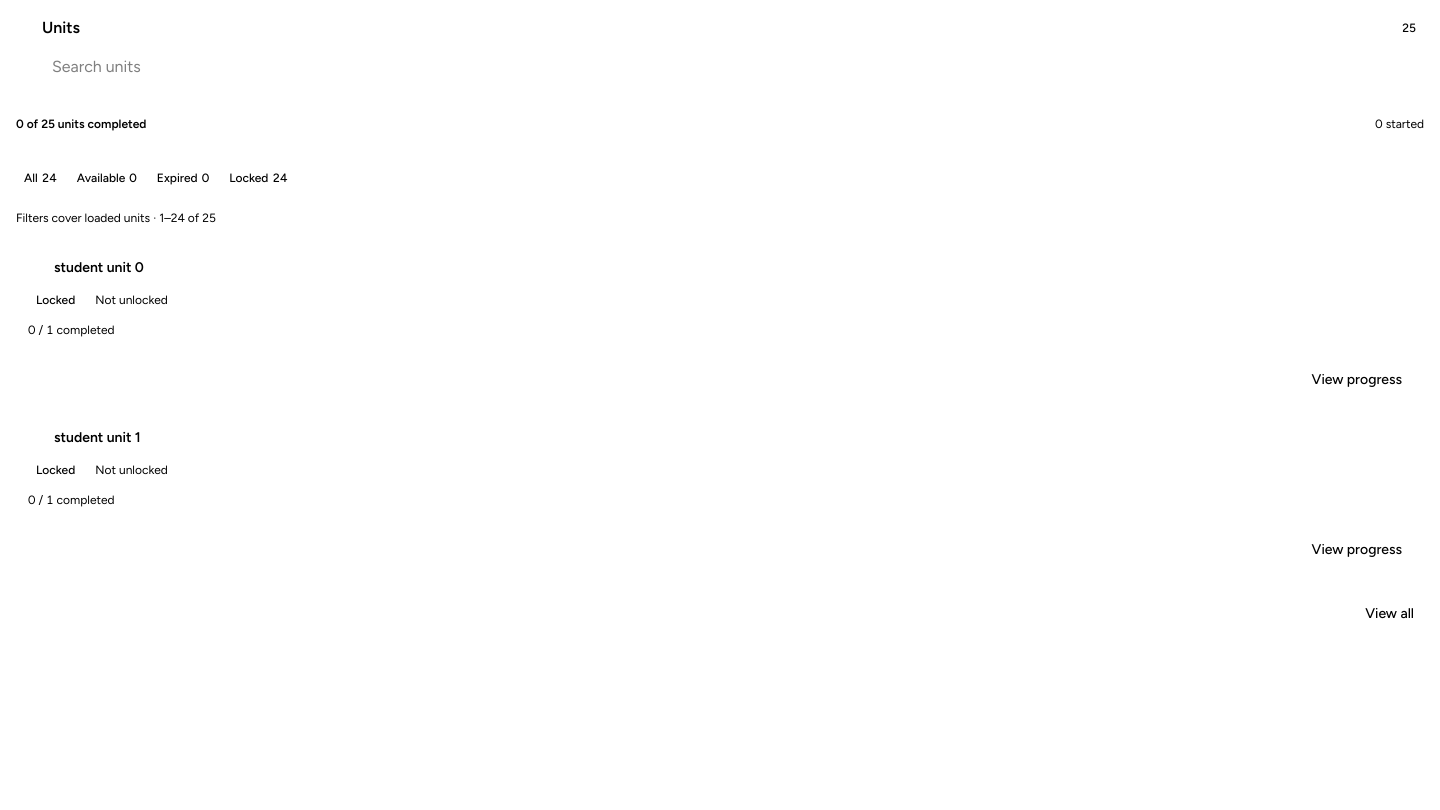
Scenario: searches and filters the loaded page without another read and recovers from no results
Check: the heading "student unit 0" is shown, box [54,259,144,276]
Type "unit 23" into the field named "Search loaded units".
click(720, 66); type("unit 23")  # box [16,48,1424,84]
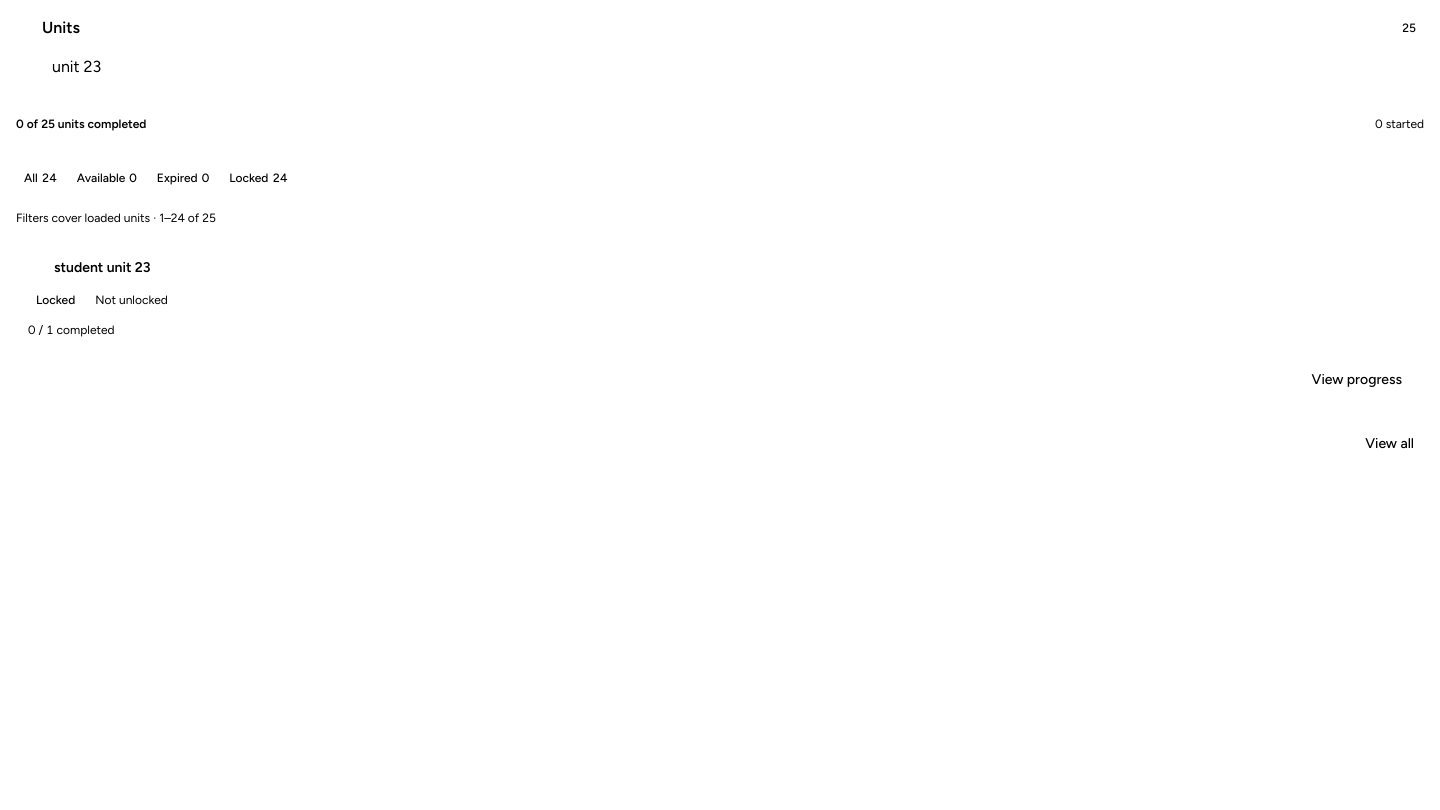
Check: the heading "student unit 23" is shown, box [54,259,151,276]
Click the button "Available 0".
click(107, 178)  # box [69,162,145,194]
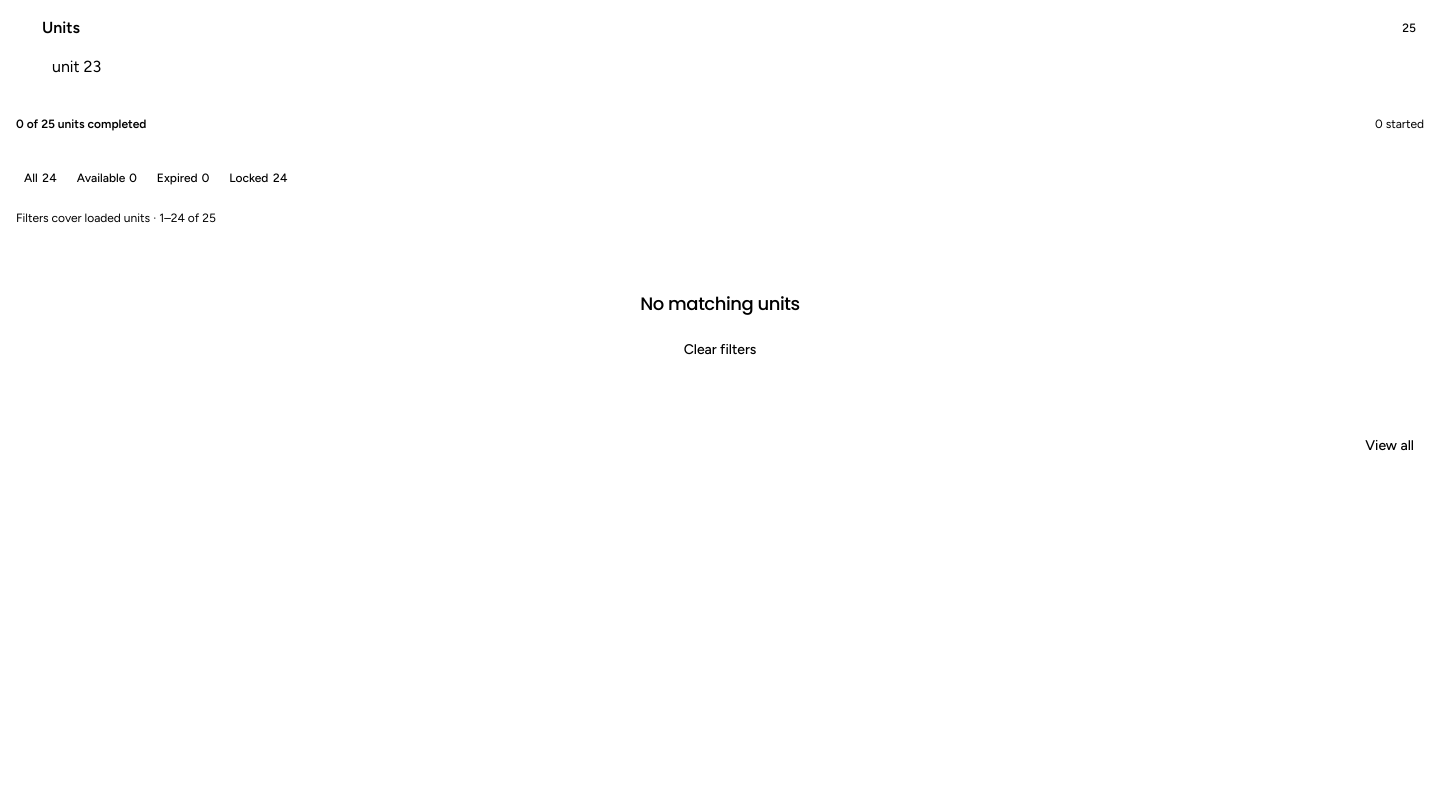
Check: the text "No matching units" is shown, box [640,290,800,318]
Check: the text "student unit 23" is gone
Click the button "Clear filters".
click(720, 350)  # box [673,334,767,366]
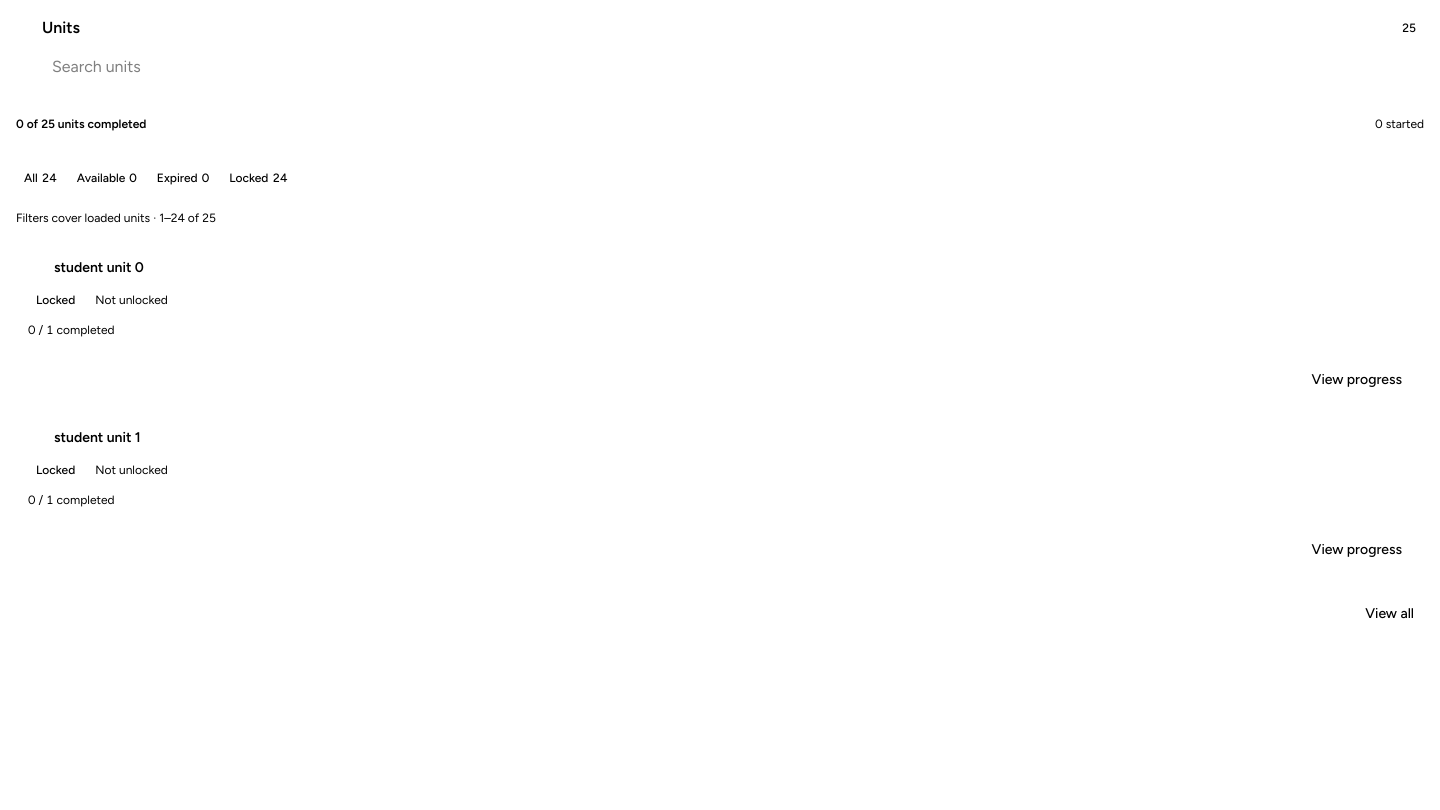
Check: the heading "student unit 0" is shown, box [54,259,144,276]
